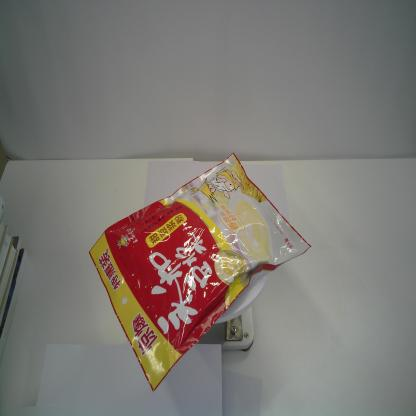Instant Drink: (88, 151, 313, 393)
